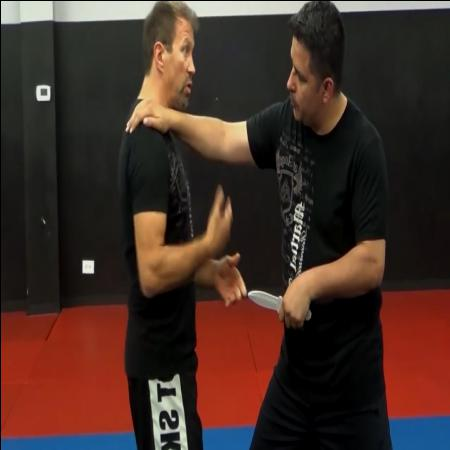long weapon: (246, 284, 312, 328)
